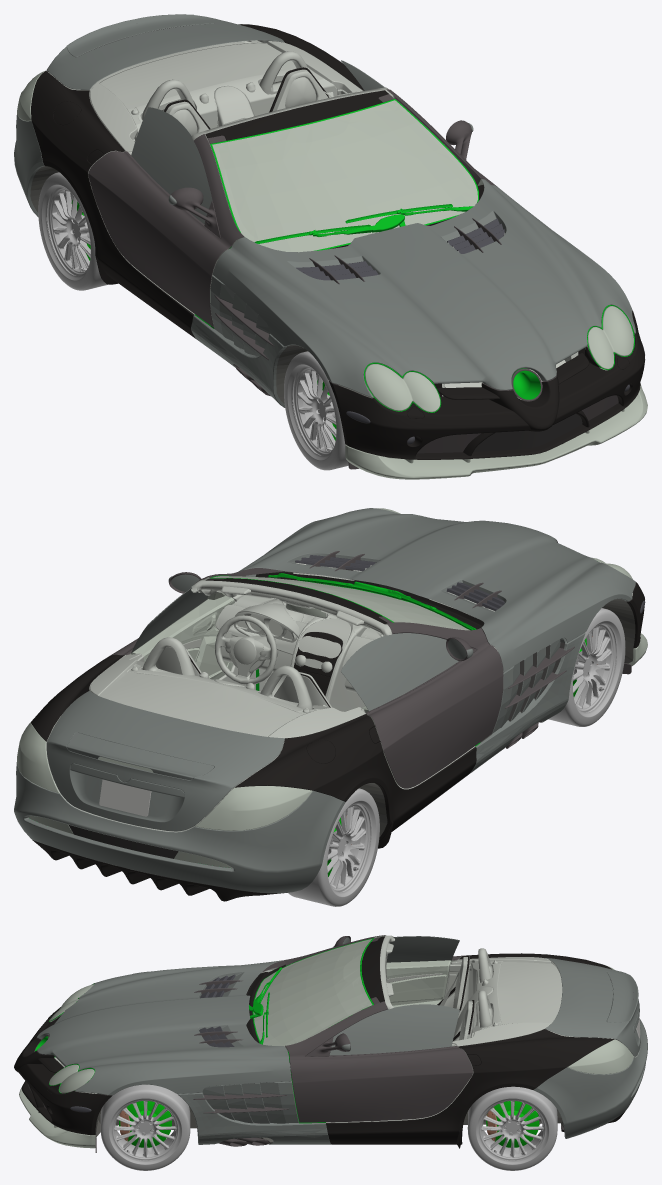
File: car4.fbx
3 views of the same model, one above another, from view 1: azimuth 30°, elevation 25°; view 2: azimuth 150°, elevation 25°; view 3: azimuth 270°, elevation 25° (orthographic). The views are drawn at different scales.
Parts seen in each view (by area): view 1: Carbody1, Hood, BumperF, DoorR, Trunk, WingL.001, Disk.001, Disk, FrontLightR, Tire.001, Tire, Spoiler (+4 smaller); view 2: Carbody1, Hood, BumperR, Trunk, DoorR, WingL.001, DoorR.001, RearLightR, Disk, Disk.001, SteeringWheel, Spoiler (+5 smaller); view 3: Carbody1, Hood, DoorR.001, WingL, BumperF, BumperR, Trunk, DoorR, Tire.003, Tire.002, Disk.003, Disk.002 (+7 smaller).
Boxes of the visible parts, bbox=[...] form: Carbody1: bbox=[31, 24, 634, 412]; Hood: bbox=[212, 179, 635, 397]; BumperF: bbox=[329, 310, 647, 479]; DoorR: bbox=[88, 107, 244, 327]; Trunk: bbox=[46, 15, 284, 89]; WingL.001: bbox=[191, 275, 286, 407]; Disk.001: bbox=[292, 367, 336, 455]; Disk: bbox=[46, 188, 90, 276]; FrontLightR: bbox=[365, 364, 440, 412]; Tire.001: bbox=[284, 351, 348, 470]; Tire: bbox=[38, 172, 108, 290]; Spoiler: bbox=[66, 14, 214, 57]; Carbody1: bbox=[31, 563, 632, 848]; Hood: bbox=[239, 508, 635, 672]; BumperR: bbox=[14, 762, 345, 901]; Trunk: bbox=[46, 690, 284, 831]; DoorR: bbox=[341, 616, 503, 788]; WingL.001: bbox=[467, 632, 585, 775]; DoorR.001: bbox=[110, 570, 245, 679]; RearLightR: bbox=[195, 785, 312, 830]; Disk: bbox=[327, 804, 371, 892]; Disk.001: bbox=[573, 624, 616, 712]; SteeringWheel: bbox=[215, 615, 276, 684]; Spoiler: bbox=[66, 732, 214, 779]; Carbody1: bbox=[35, 935, 638, 1148]; Hood: bbox=[37, 960, 291, 1095]; DoorR.001: bbox=[285, 997, 472, 1122]; WingL: bbox=[177, 1072, 330, 1144]; BumperF: bbox=[14, 1007, 112, 1152]; BumperR: bbox=[533, 1018, 647, 1138]; Trunk: bbox=[545, 958, 640, 1056]; DoorR: bbox=[285, 935, 463, 1007]; Tire.003: bbox=[100, 1084, 190, 1170]; Tire.002: bbox=[467, 1086, 557, 1170]; Disk.003: bbox=[112, 1100, 178, 1160]; Disk.002: bbox=[479, 1100, 545, 1160].
Bounding box in the file's own units: 1.91 × 1.27 × 4.66.
